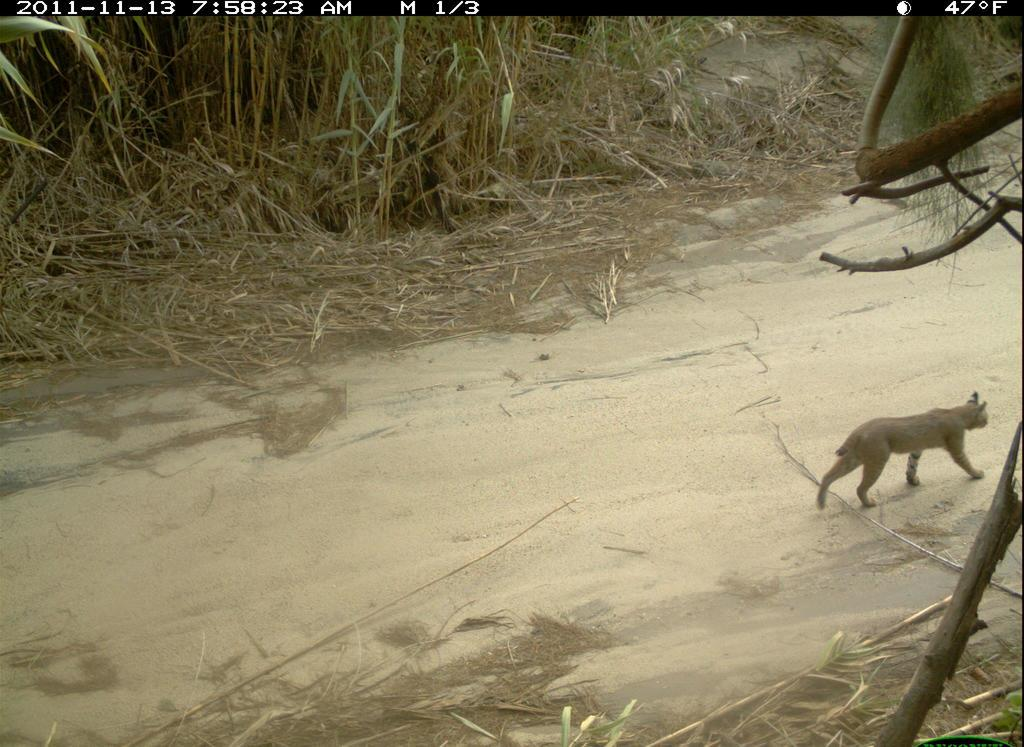bobcat: (808, 387, 996, 520)
